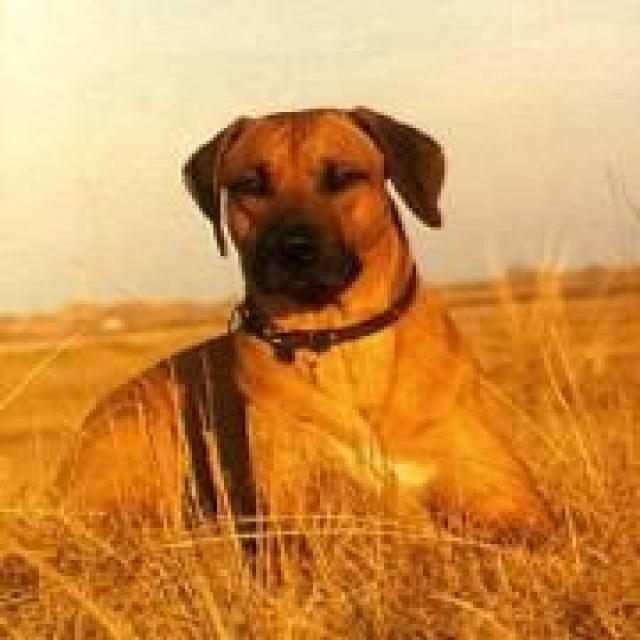rhodesian_ridgeback: (3, 102, 580, 637)
